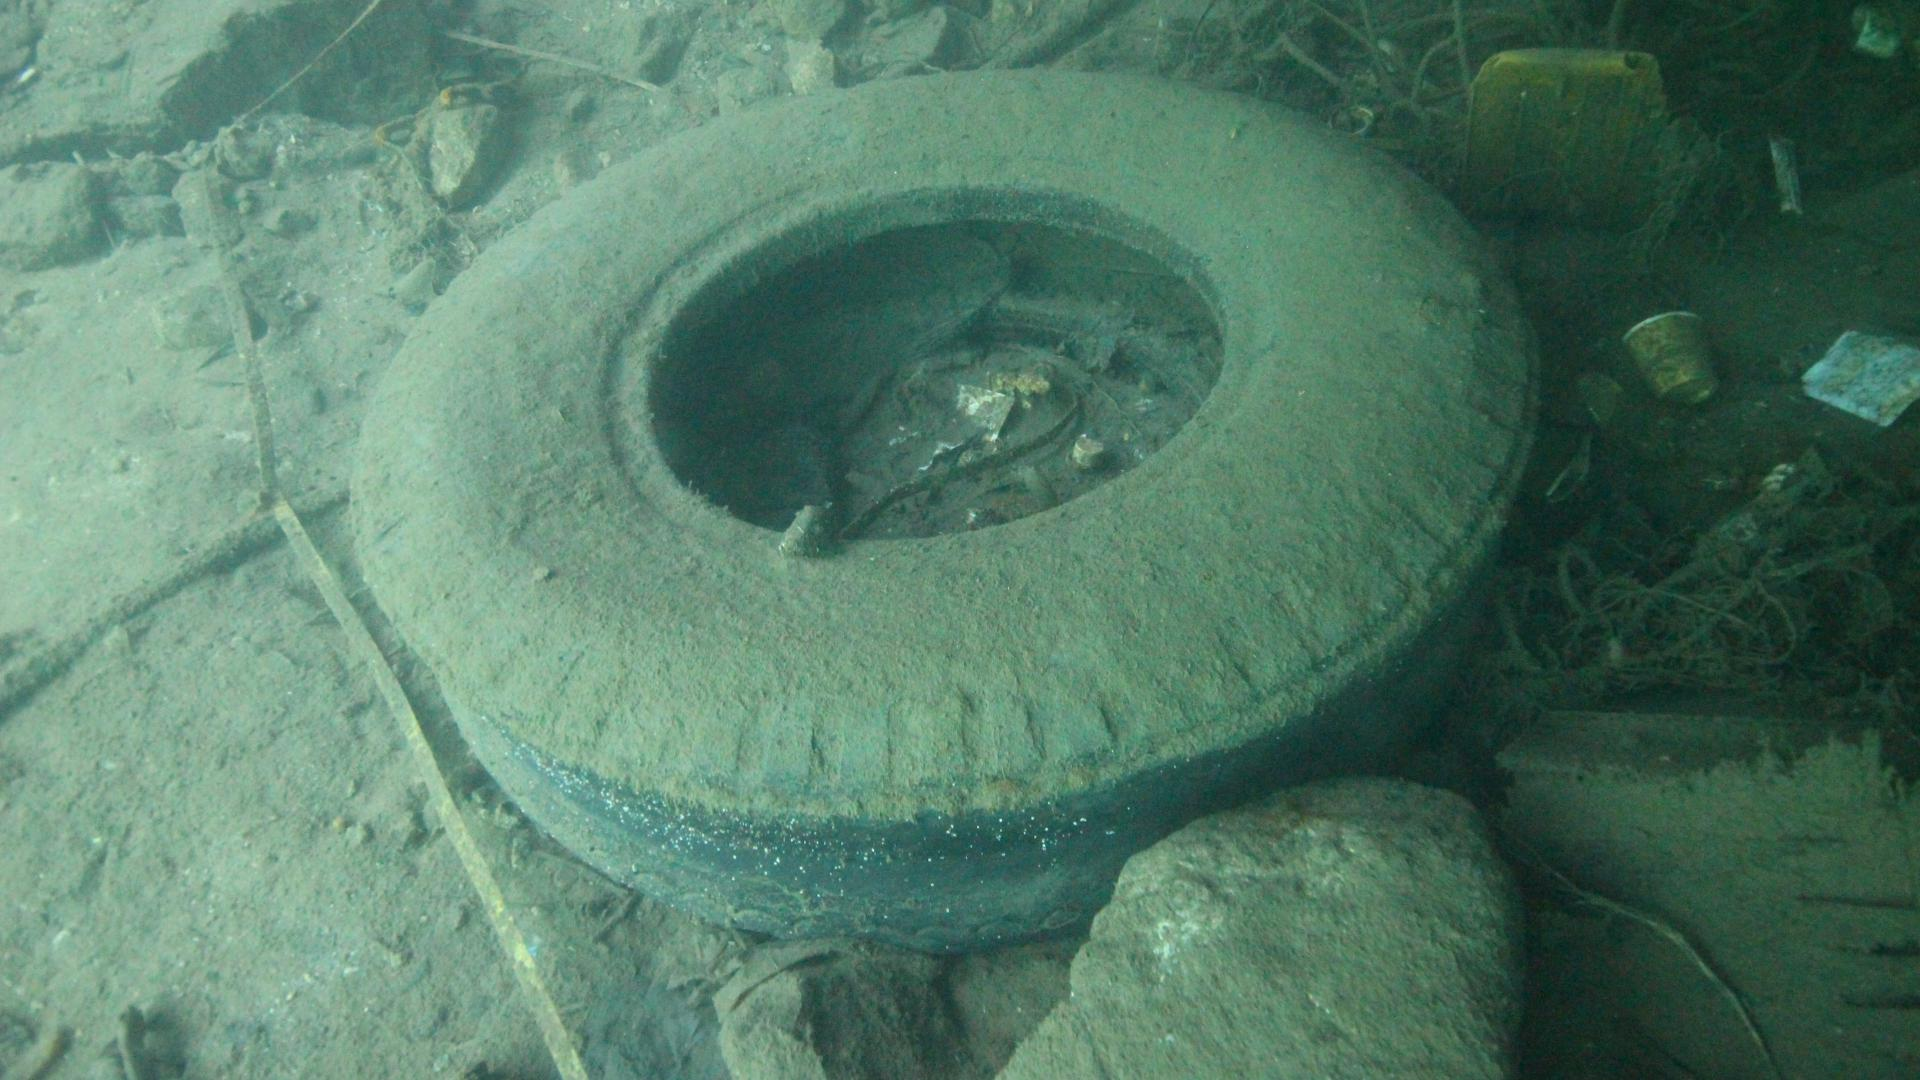tire: (347, 65, 1545, 959)
